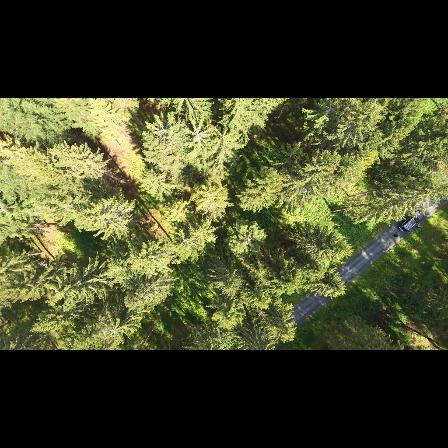Sick: (150, 116, 177, 145), (184, 121, 212, 147)
